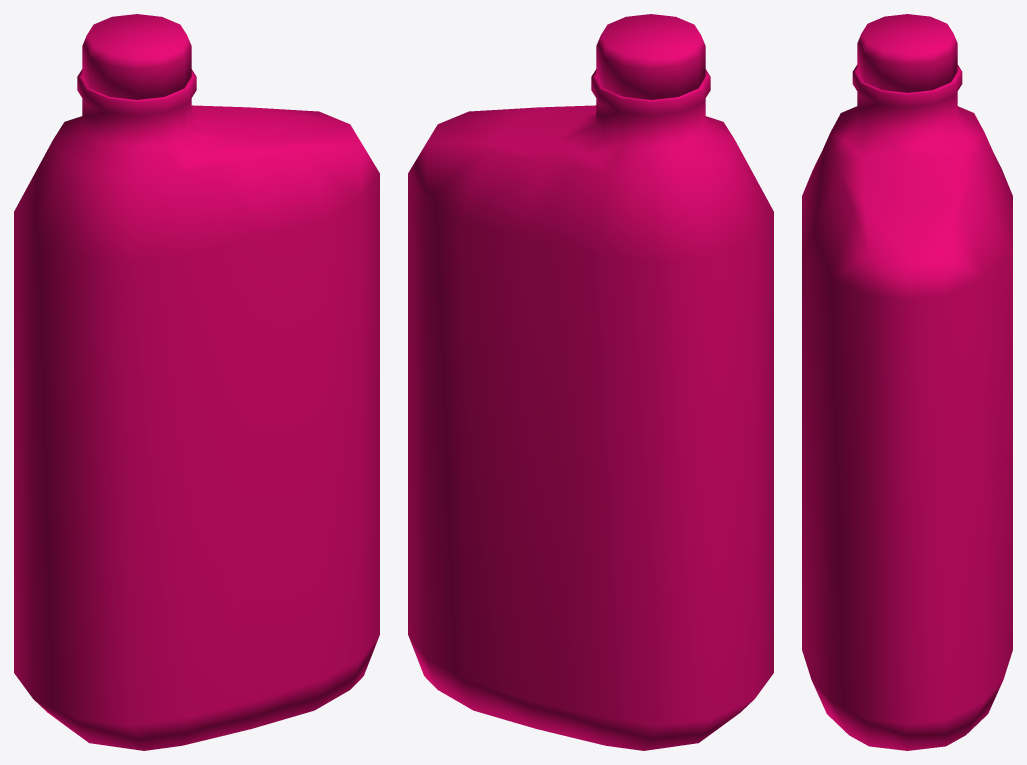
The model's file is Motor_Oil_01_Lod0.fbx.
3 views of the same model, side by side, from view 1: azimuth 30°, elevation 25°; view 2: azimuth 150°, elevation 25°; view 3: azimuth 270°, elevation 25° (orthographic). The views are drawn at different scales.
Parts seen in each view (by area): view 1: Motor_Oil_01_Lod0; view 2: Motor_Oil_01_Lod0; view 3: Motor_Oil_01_Lod0.
Part boxes in pixels (x1,y1,x2,y2): Motor_Oil_01_Lod0: (14,14,379,750); Motor_Oil_01_Lod0: (408,14,773,750); Motor_Oil_01_Lod0: (802,14,1012,750).
Bounding box in the file's own units: 15.26 × 29.32 × 9.03.
